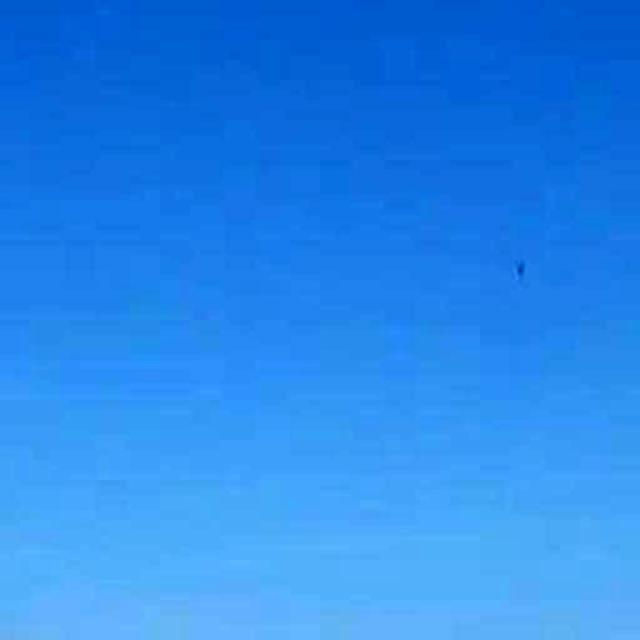drone: (496, 235, 544, 305)
